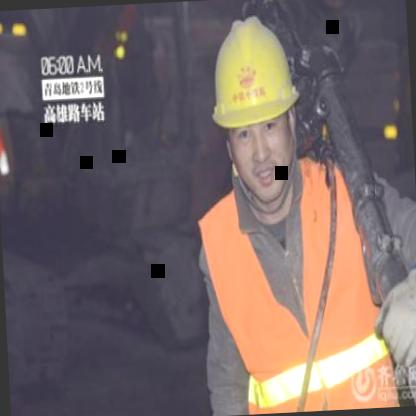helmet: (201, 1, 308, 214)
